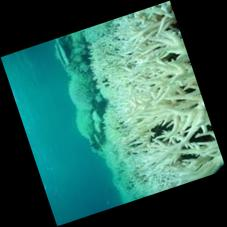bleached_corals: (49, 2, 226, 211)
